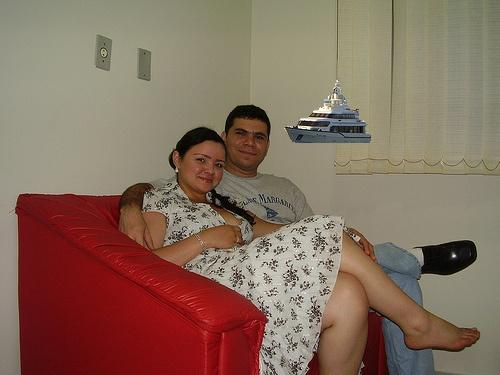tampered: (285, 78, 371, 143)
